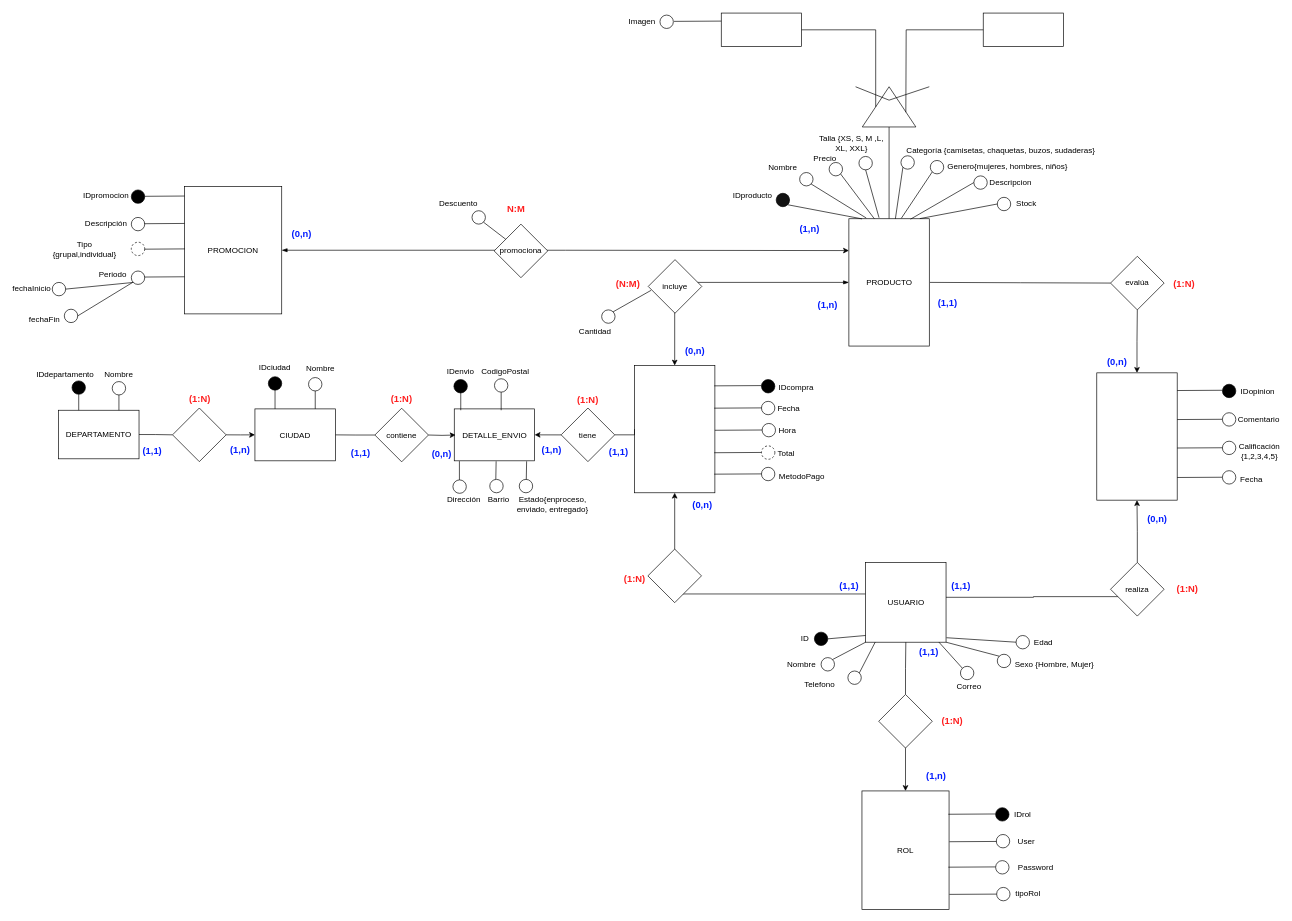
The diagram is 1292 pixels wide and 921 high, and some of its shapes have lost their labels. Each missing label, with the centre of its shape:
alberga: point 199,434
COMPRA: point 674,429
hace: point 674,575
OPINION: point 1136,436
posee: point 905,721
PRODUCTO DEPORTIVO: point 1023,29
PRODUCTO PERSONALIZADO: point 761,29
